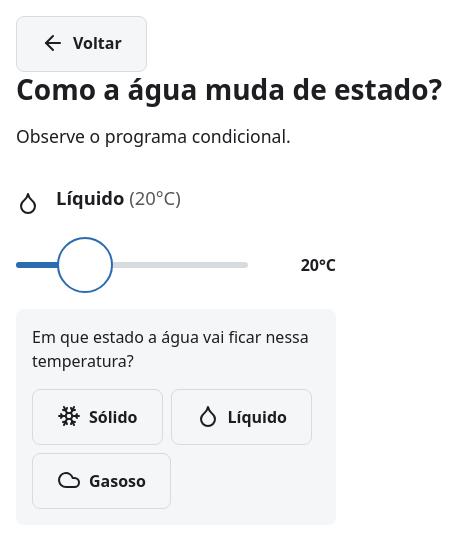
Scenario: WaterStateChallengePage - previsão obrigatória (3.13 AC2) › unlocks the run button only after the student picks a predicted state
The image size is (459, 542).
Click the button "Líquido".
click(241, 417)  # box [170,389,312,445]
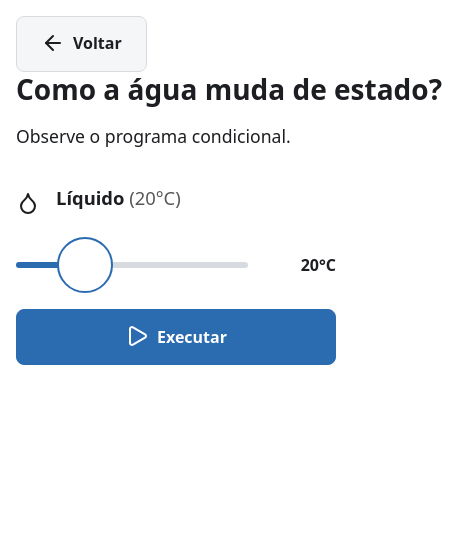
Expected: the button "Executar" is shown, [16,309,336,365]
